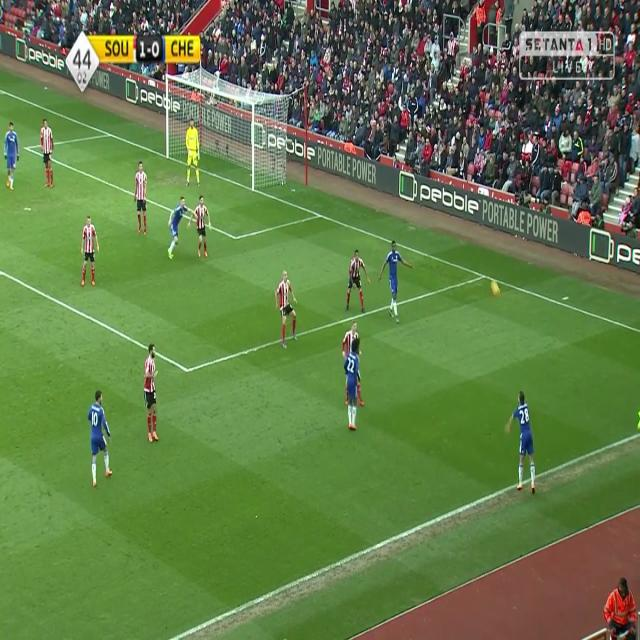Ball: (490, 277, 500, 297)
Goalkeeper: (184, 116, 203, 190)
Player: (505, 386, 537, 497), (378, 236, 416, 329), (86, 386, 114, 489), (142, 340, 162, 443), (274, 269, 299, 349), (344, 248, 372, 315), (78, 214, 102, 289), (165, 196, 192, 262), (344, 337, 362, 433), (187, 195, 213, 261), (134, 157, 150, 236), (39, 116, 56, 190), (4, 122, 20, 195), (341, 319, 360, 362)
